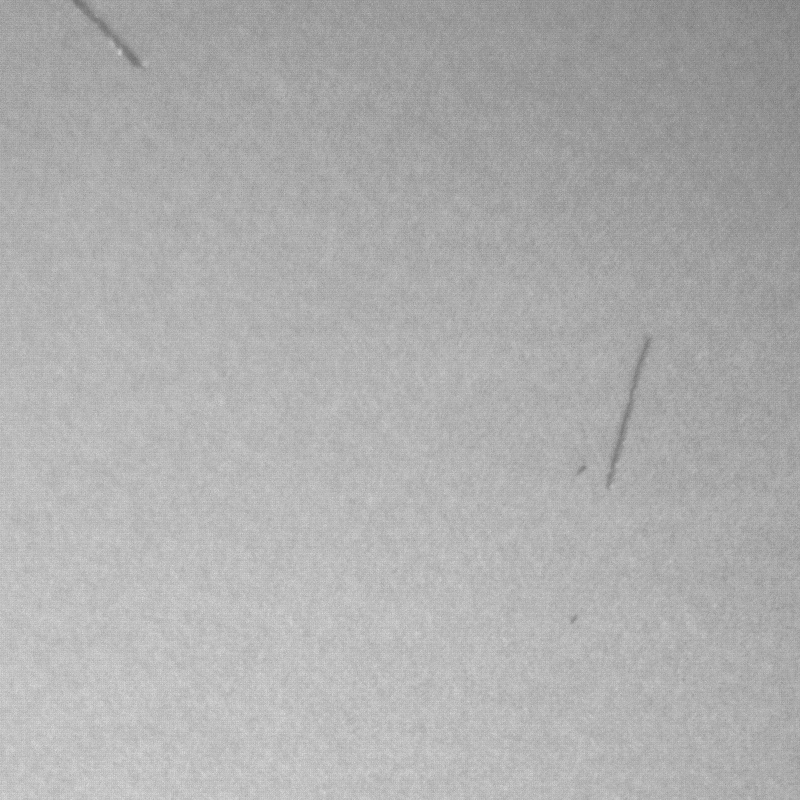defect: (603, 337, 648, 497), (73, 1, 146, 71), (564, 613, 581, 630), (575, 464, 589, 478)
